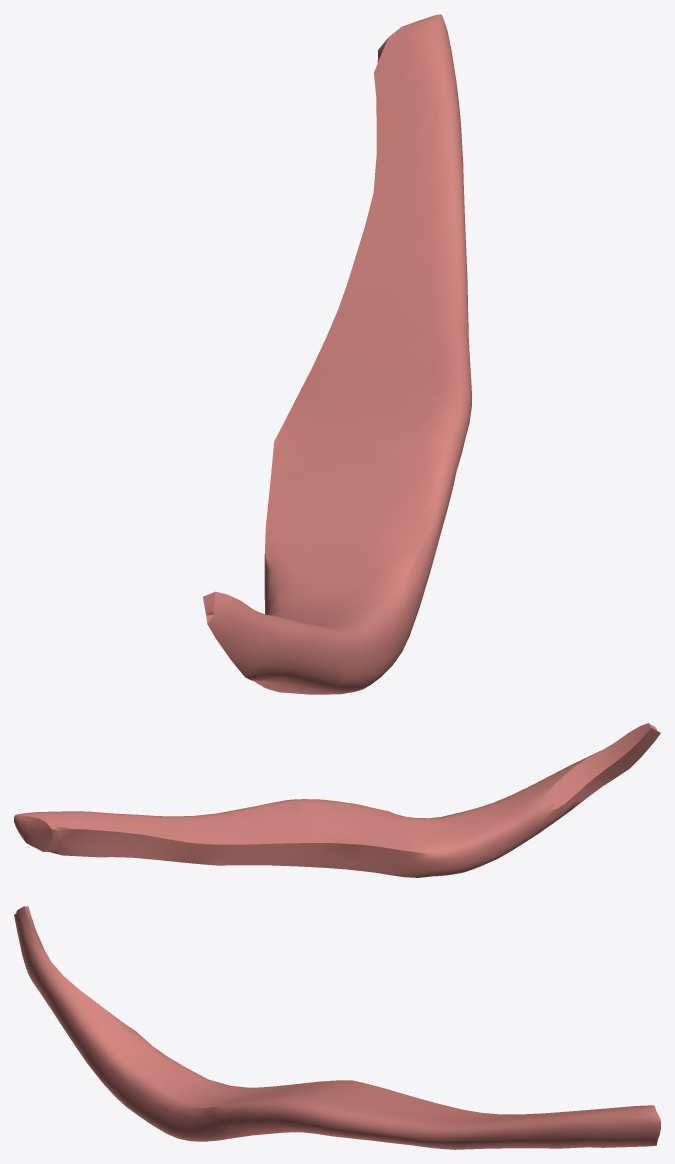
File: fma37485_mm1740m.glb
3 renders of one model, top to bottom at view 1: azimuth 30°, elevation 25°; view 2: azimuth 150°, elevation 25°; view 3: azimuth 270°, elevation 25°, orthographic. The views are drawn at different scales.
Visible parts, largest first — view 1: FMA37485_MM1740M; view 2: FMA37485_MM1740M; view 3: FMA37485_MM1740M.
Boxes of the visible parts, x1,y1,x2,y2 form: FMA37485_MM1740M: (203, 14, 471, 694); FMA37485_MM1740M: (14, 723, 660, 877); FMA37485_MM1740M: (14, 906, 660, 1149).
Bounding box in the file's own units: 0.0451 × 0.0147 × 0.0541.
